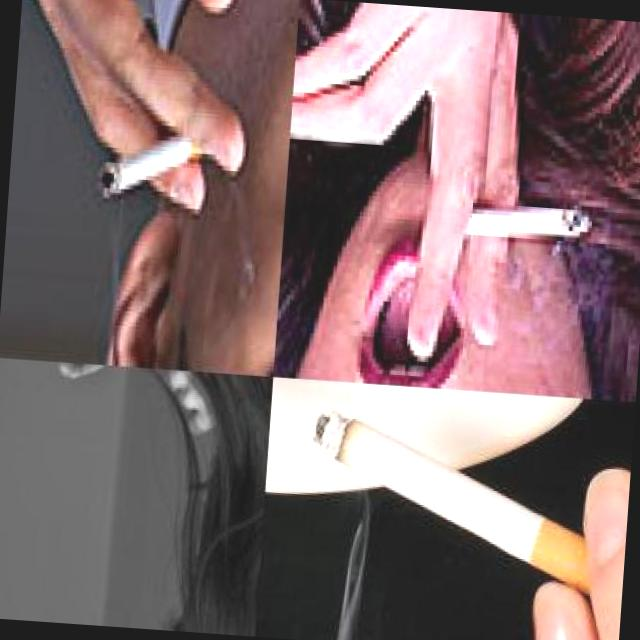smoke: (300, 412, 608, 602), (94, 121, 224, 208), (472, 204, 604, 254)
